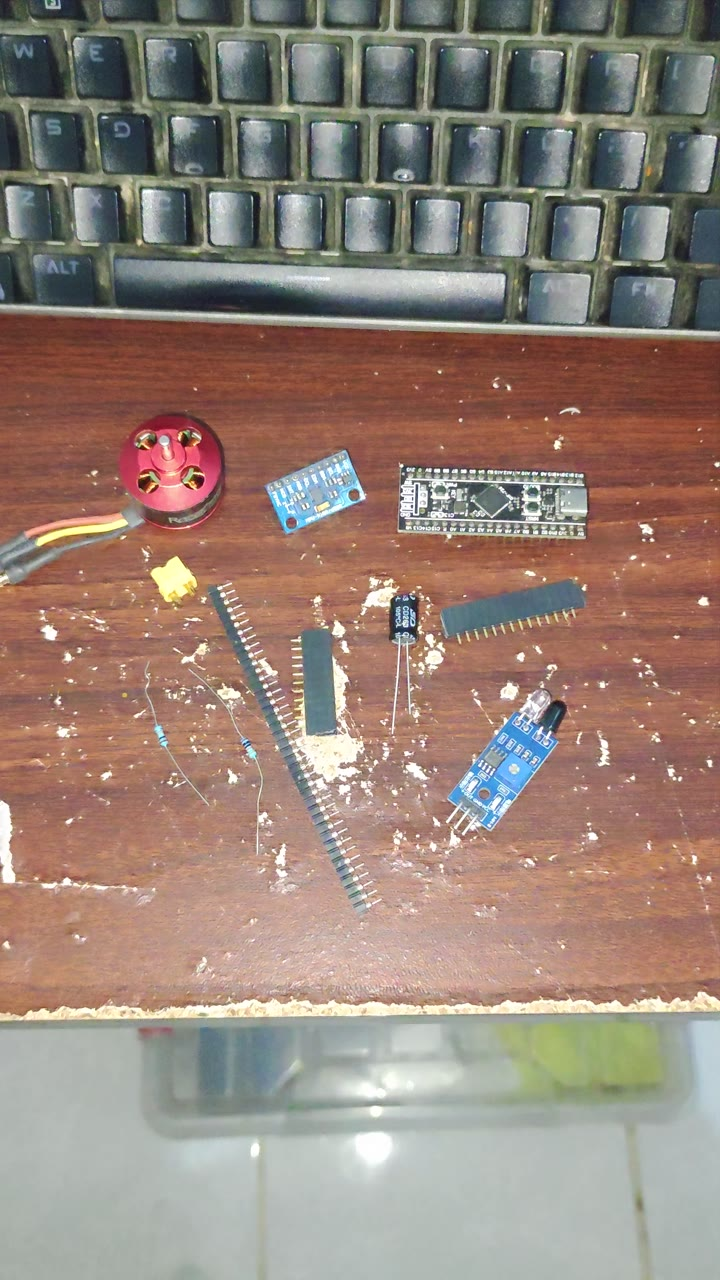bldc_motor: (34, 422, 231, 537)
elco_capacitor: (430, 568, 492, 680)
ir_sensor: (494, 649, 637, 880)
mpu6500: (295, 422, 439, 539)
pin_header: (255, 578, 464, 906), (489, 543, 642, 646), (388, 597, 418, 641)
resistor: (183, 668, 273, 792), (283, 669, 353, 787)
stm32f4: (428, 465, 593, 534)
xt30_female: (188, 527, 278, 616)
